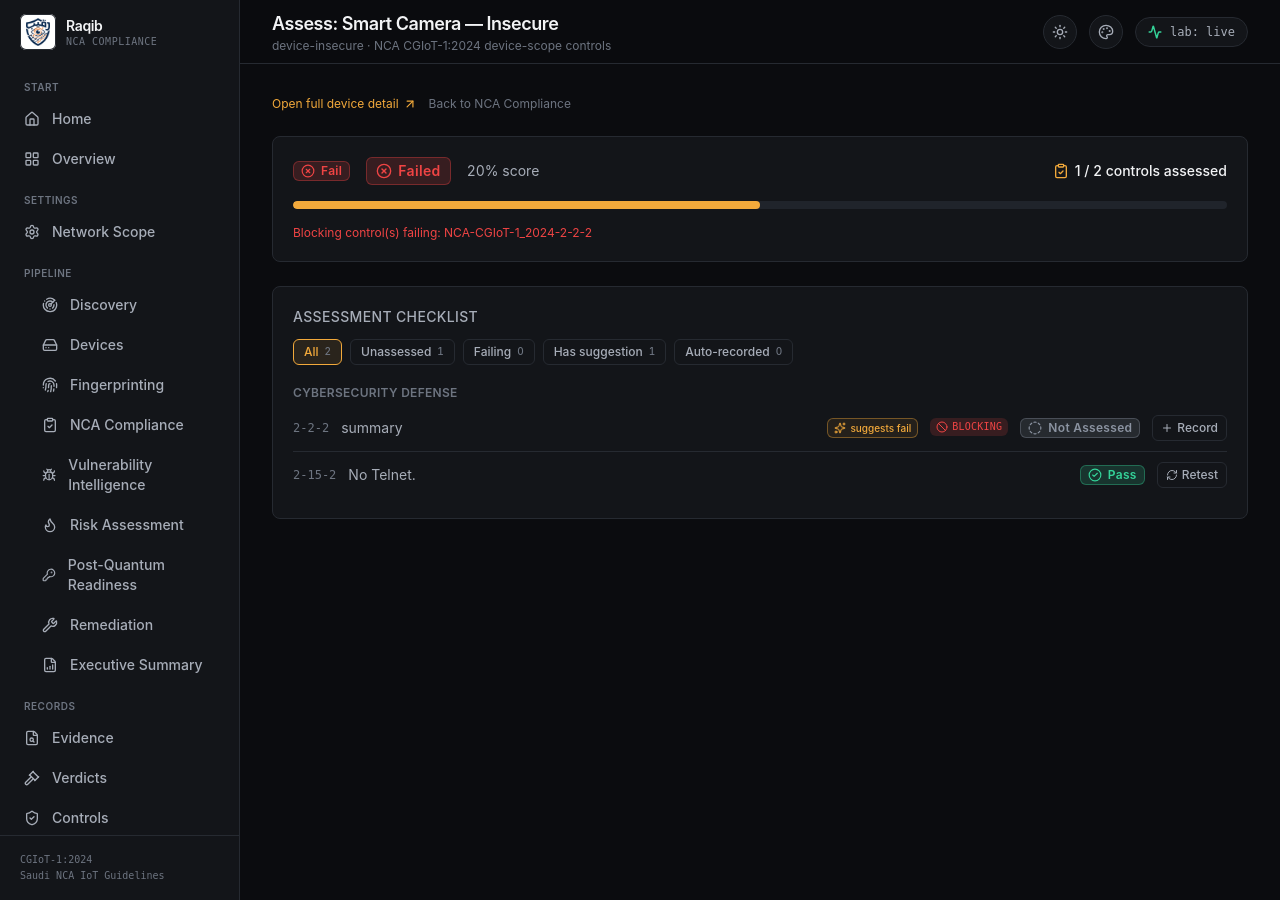
DeviceAssessmentPage › filters to unassessed controls
Expected: the text "1 / 2 controls assessed" is shown, [1053,161,1227,181]
Click the button "Unassessed 1": (402, 352) [350,339,455,365]
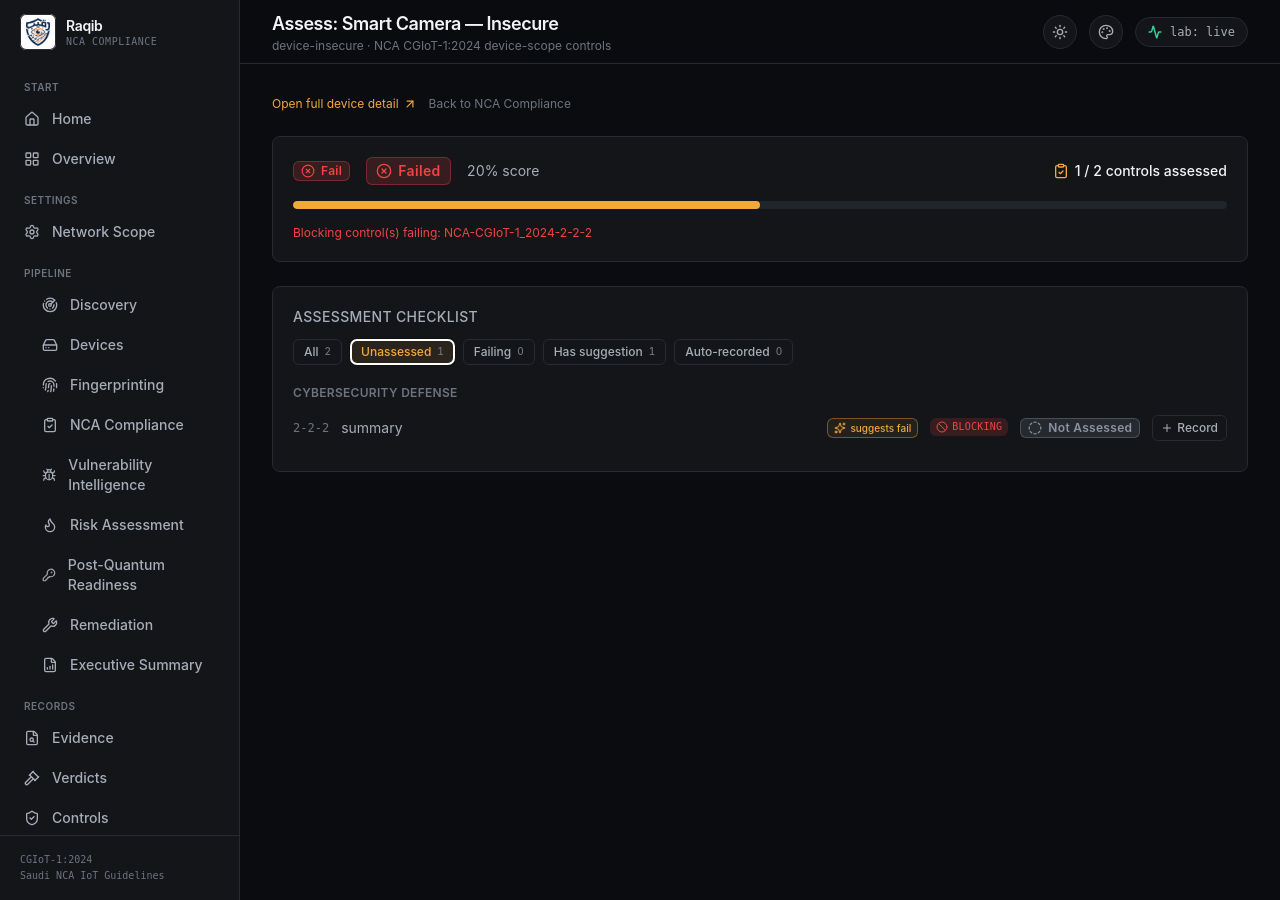
Expected: the text "suggests fail" is shown, [827,418,918,438]
Result: the text "No Telnet." is gone
